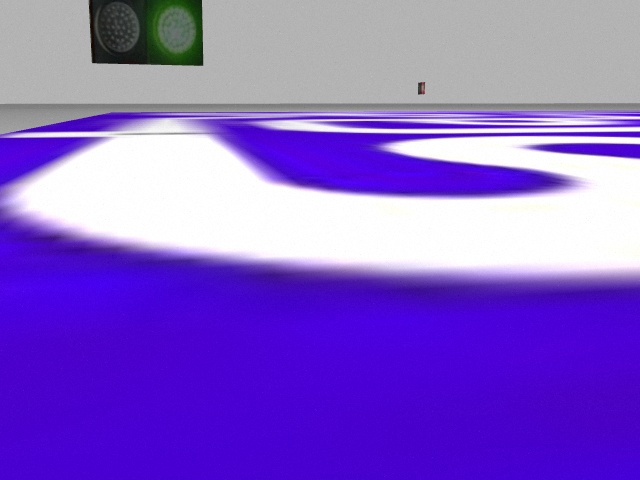green: (148, 2, 205, 67)
